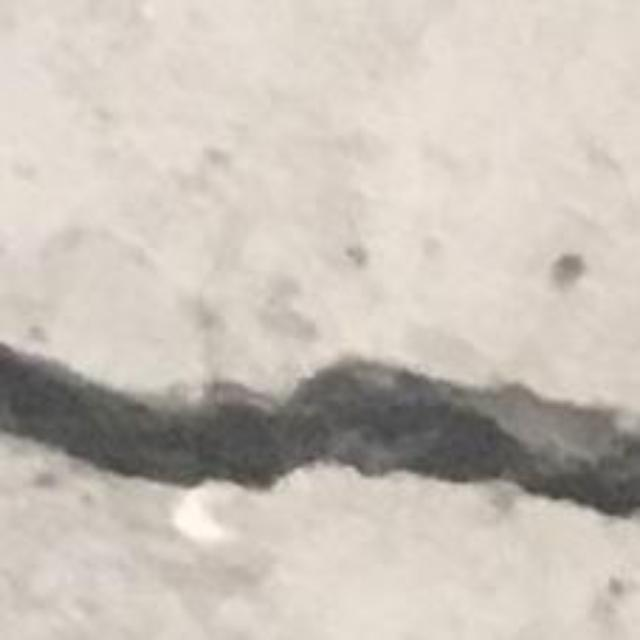crack: (0, 344, 639, 515)
